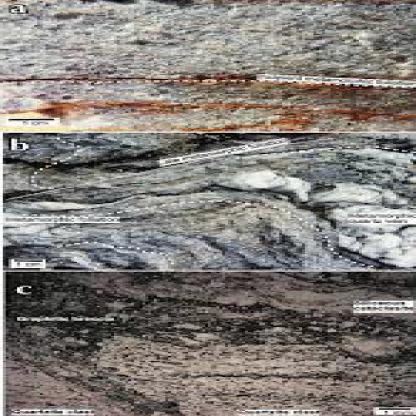Metamorphic_Quartize: (12, 279, 414, 411), (9, 0, 413, 124), (26, 137, 410, 263)
